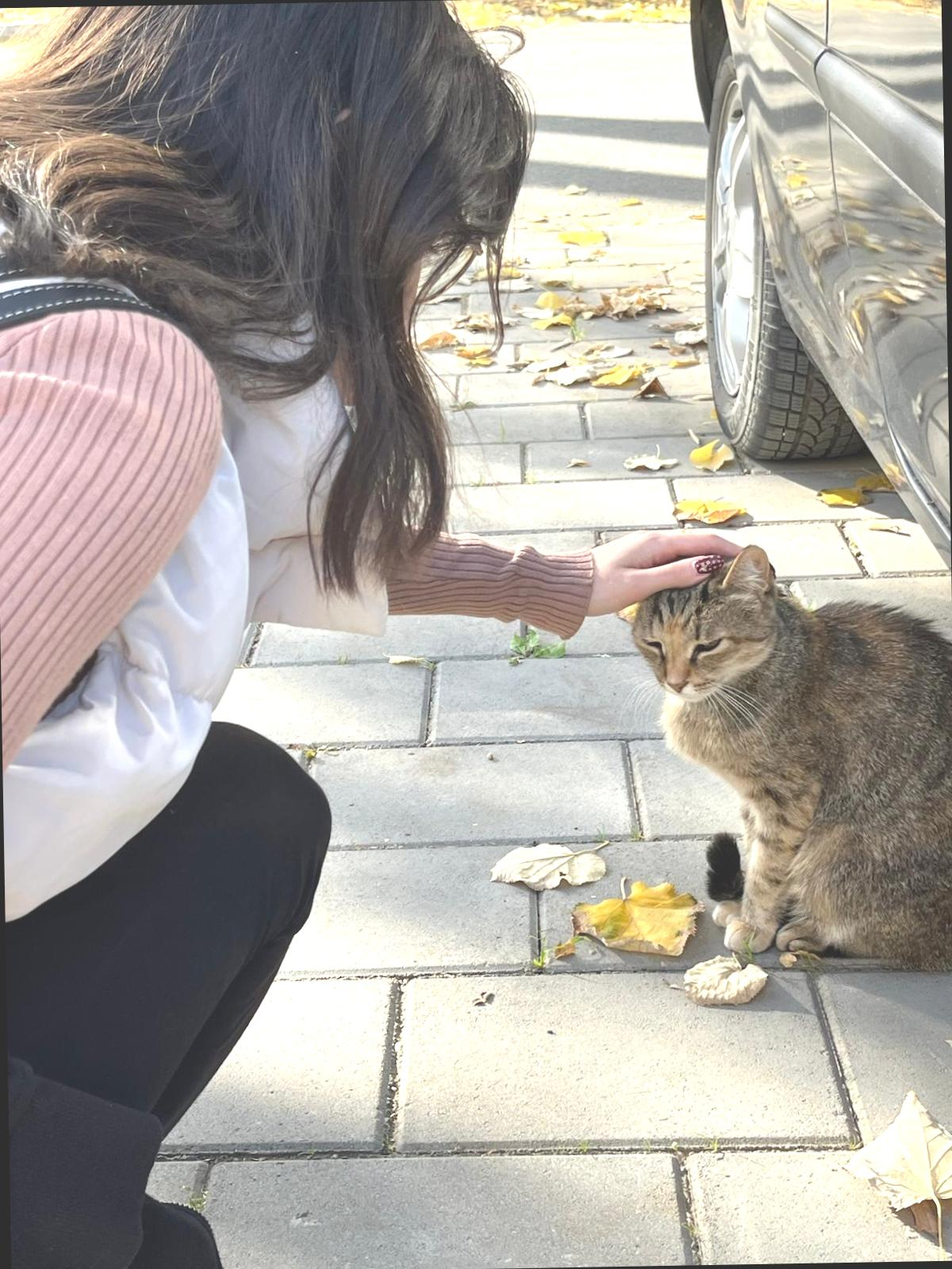macka: (629, 546, 952, 971)
